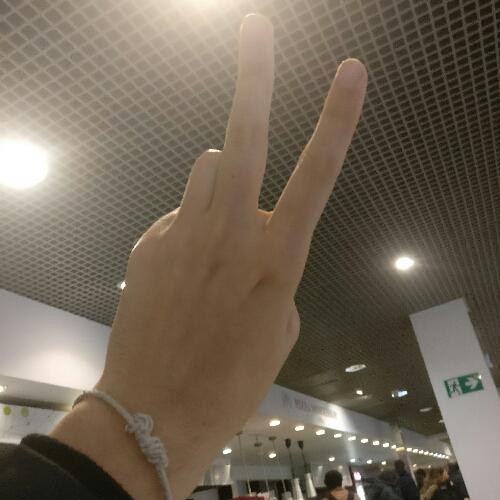scissors: (101, 10, 372, 436)
